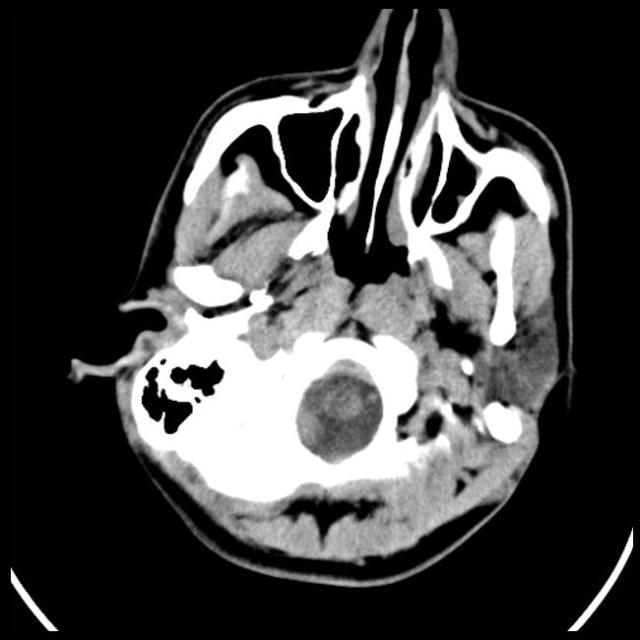lesion: (67, 6, 582, 590)
